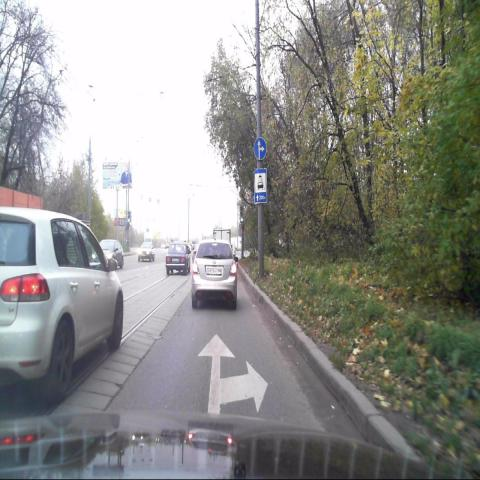7_5: (254, 168, 267, 204)
